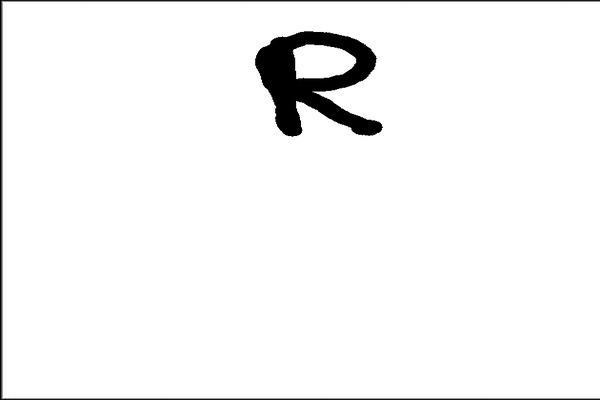R: (248, 24, 397, 143)
